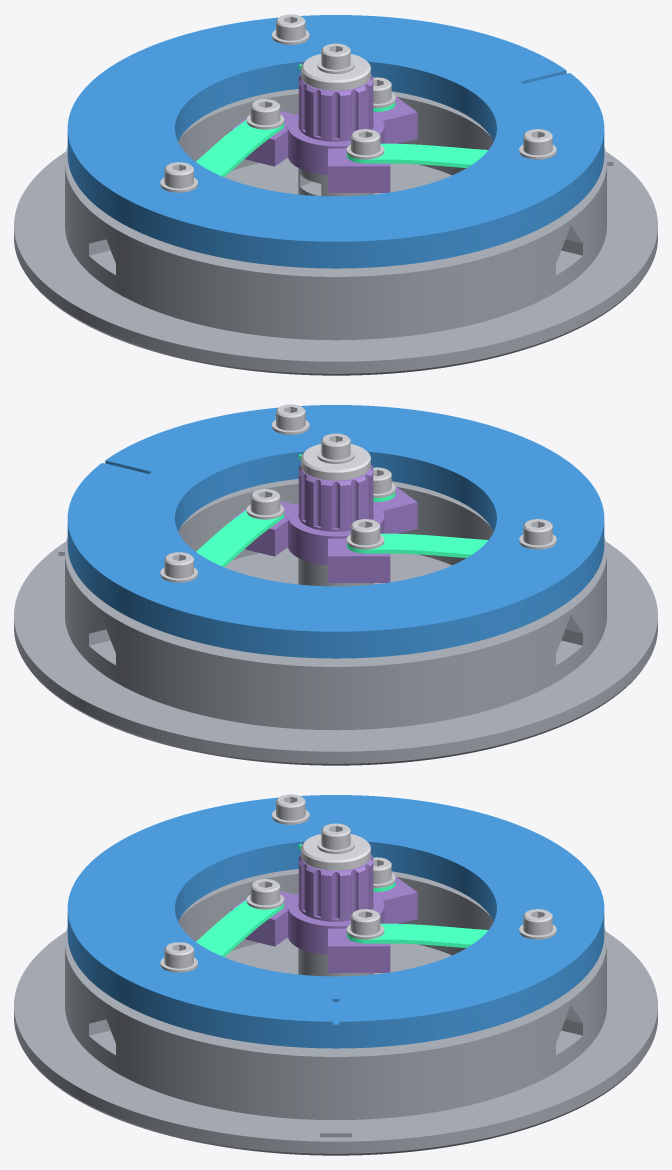
The model's file is brake-model-v2.glb.
The picture shows the model from 3 angles, top to bottom: view 1: azimuth 30°, elevation 25°; view 2: azimuth 150°, elevation 25°; view 3: azimuth 270°, elevation 25°; orthographic projection.
Visible parts, largest first — view 1: armature, base, base_sec, armature_sec, hub, hub_sec, spring2, spring1, cap, cap_sec, screw_hub2, screw_hub1 (+4 smaller); view 2: base, armature, armature_sec, hub, base_sec, spring1, spring0, cap, screw_hub1, screw_arm2, screw_arm0, screw_axle (+2 smaller); view 3: armature, base, base_sec, armature_sec, hub, hub_sec, spring0, spring2, cap, cap_sec, screw_hub2, screw_arm0 (+4 smaller).
Part boxes in pixels (bbox=[...]): armature: bbox=[67, 15, 604, 268]; base: bbox=[14, 89, 657, 375]; base_sec: bbox=[98, 102, 657, 375]; armature_sec: bbox=[137, 38, 604, 268]; hub: bbox=[231, 75, 417, 192]; hub_sec: bbox=[300, 82, 416, 175]; spring2: bbox=[346, 143, 488, 167]; spring1: bbox=[196, 120, 284, 176]; cap: bbox=[301, 54, 370, 90]; cap_sec: bbox=[310, 55, 370, 90]; screw_hub2: bbox=[350, 129, 380, 155]; screw_hub1: bbox=[250, 99, 280, 125]; base: bbox=[14, 479, 657, 765]; armature: bbox=[67, 405, 604, 658]; armature_sec: bbox=[69, 405, 604, 578]; hub: bbox=[231, 465, 417, 582]; base_sec: bbox=[19, 479, 657, 668]; spring1: bbox=[346, 533, 488, 557]; spring0: bbox=[196, 511, 283, 566]; cap: bbox=[301, 444, 370, 480]; screw_hub1: bbox=[350, 519, 380, 545]; screw_arm2: bbox=[276, 404, 305, 430]; screw_arm0: bbox=[164, 552, 193, 578]; screw_axle: bbox=[321, 433, 350, 459]; armature: bbox=[67, 795, 604, 1048]; base: bbox=[14, 869, 657, 1155]; base_sec: bbox=[14, 869, 469, 1155]; armature_sec: bbox=[67, 798, 447, 1048]; hub: bbox=[231, 855, 417, 972]; hub_sec: bbox=[287, 862, 376, 972]; spring0: bbox=[346, 923, 488, 947]; spring2: bbox=[196, 900, 284, 956]; cap: bbox=[301, 834, 370, 870]; cap_sec: bbox=[301, 836, 350, 870]; screw_hub2: bbox=[250, 879, 280, 905]; screw_arm0: bbox=[523, 909, 552, 935].
Bounding box in the file's own units: 12 × 3.93 × 12.
